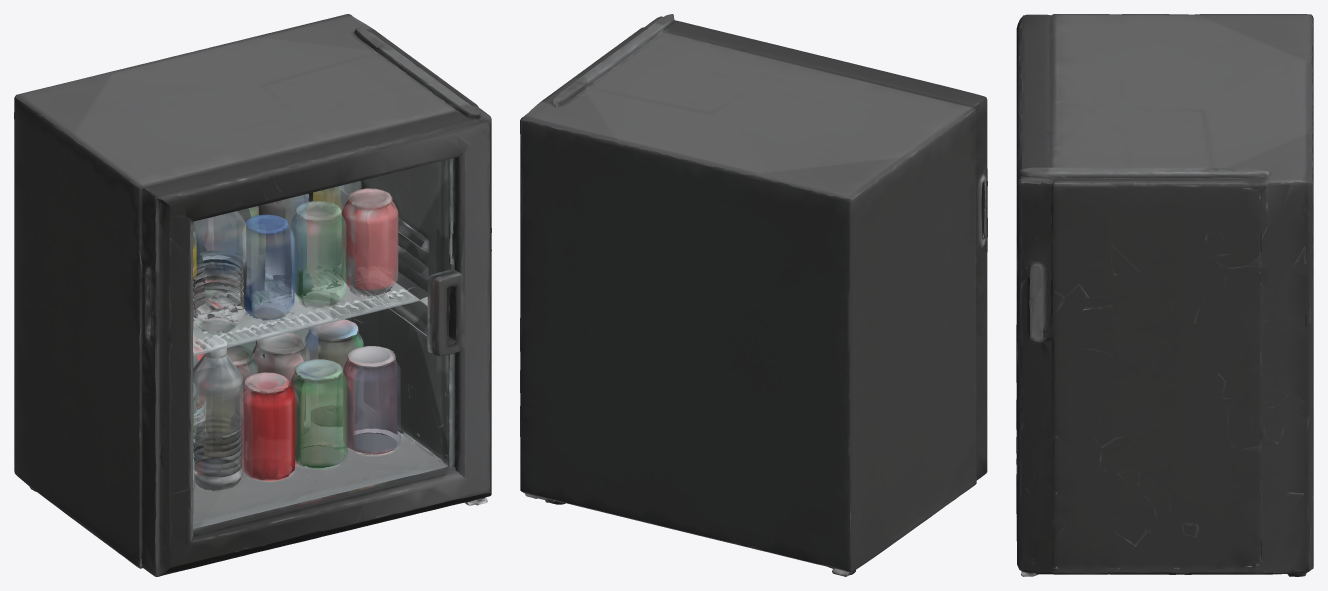
The model's file is item_2574625f.glb.
3 views of the same model, side by side, from view 1: azimuth 30°, elevation 25°; view 2: azimuth 150°, elevation 25°; view 3: azimuth 270°, elevation 25° (orthographic). The views are drawn at different scales.
Visible parts, largest first — view 1: geometry_0; view 2: geometry_0; view 3: geometry_0.
Boxes of the visible parts, box(x1,y1,x2,y2) form: geometry_0: box(14, 14, 491, 576); geometry_0: box(520, 14, 987, 576); geometry_0: box(1016, 14, 1313, 576).
Bounding box in the file's own units: 0.4616 × 0.51 × 0.3389.
Materials: 1 (1 with a texture image).
